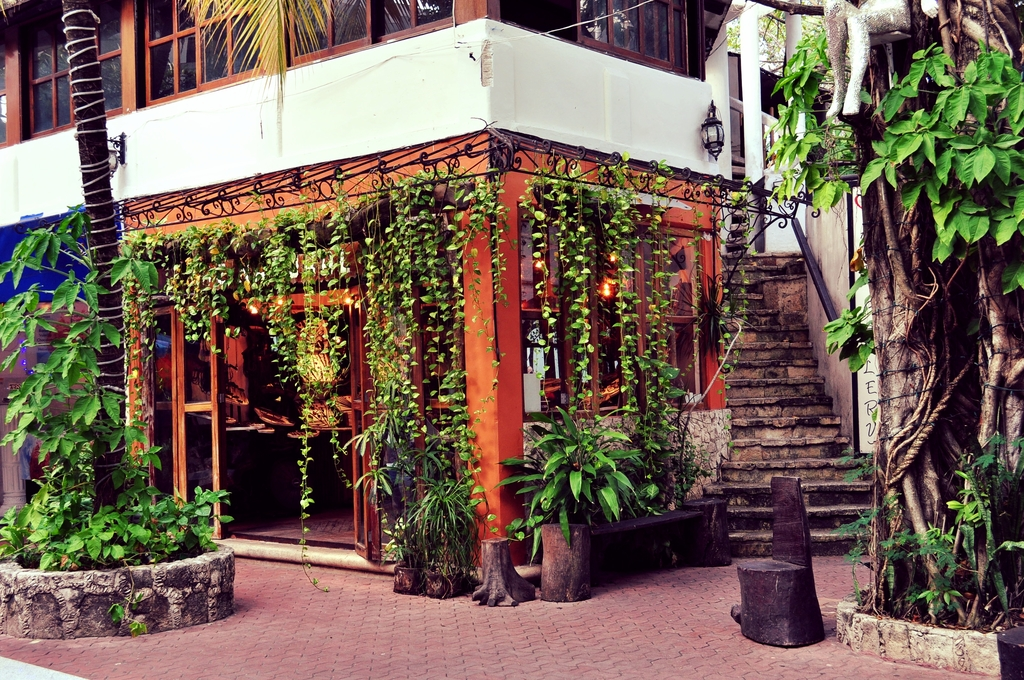Tree: (0, 0, 431, 555), (812, 26, 1013, 605)
